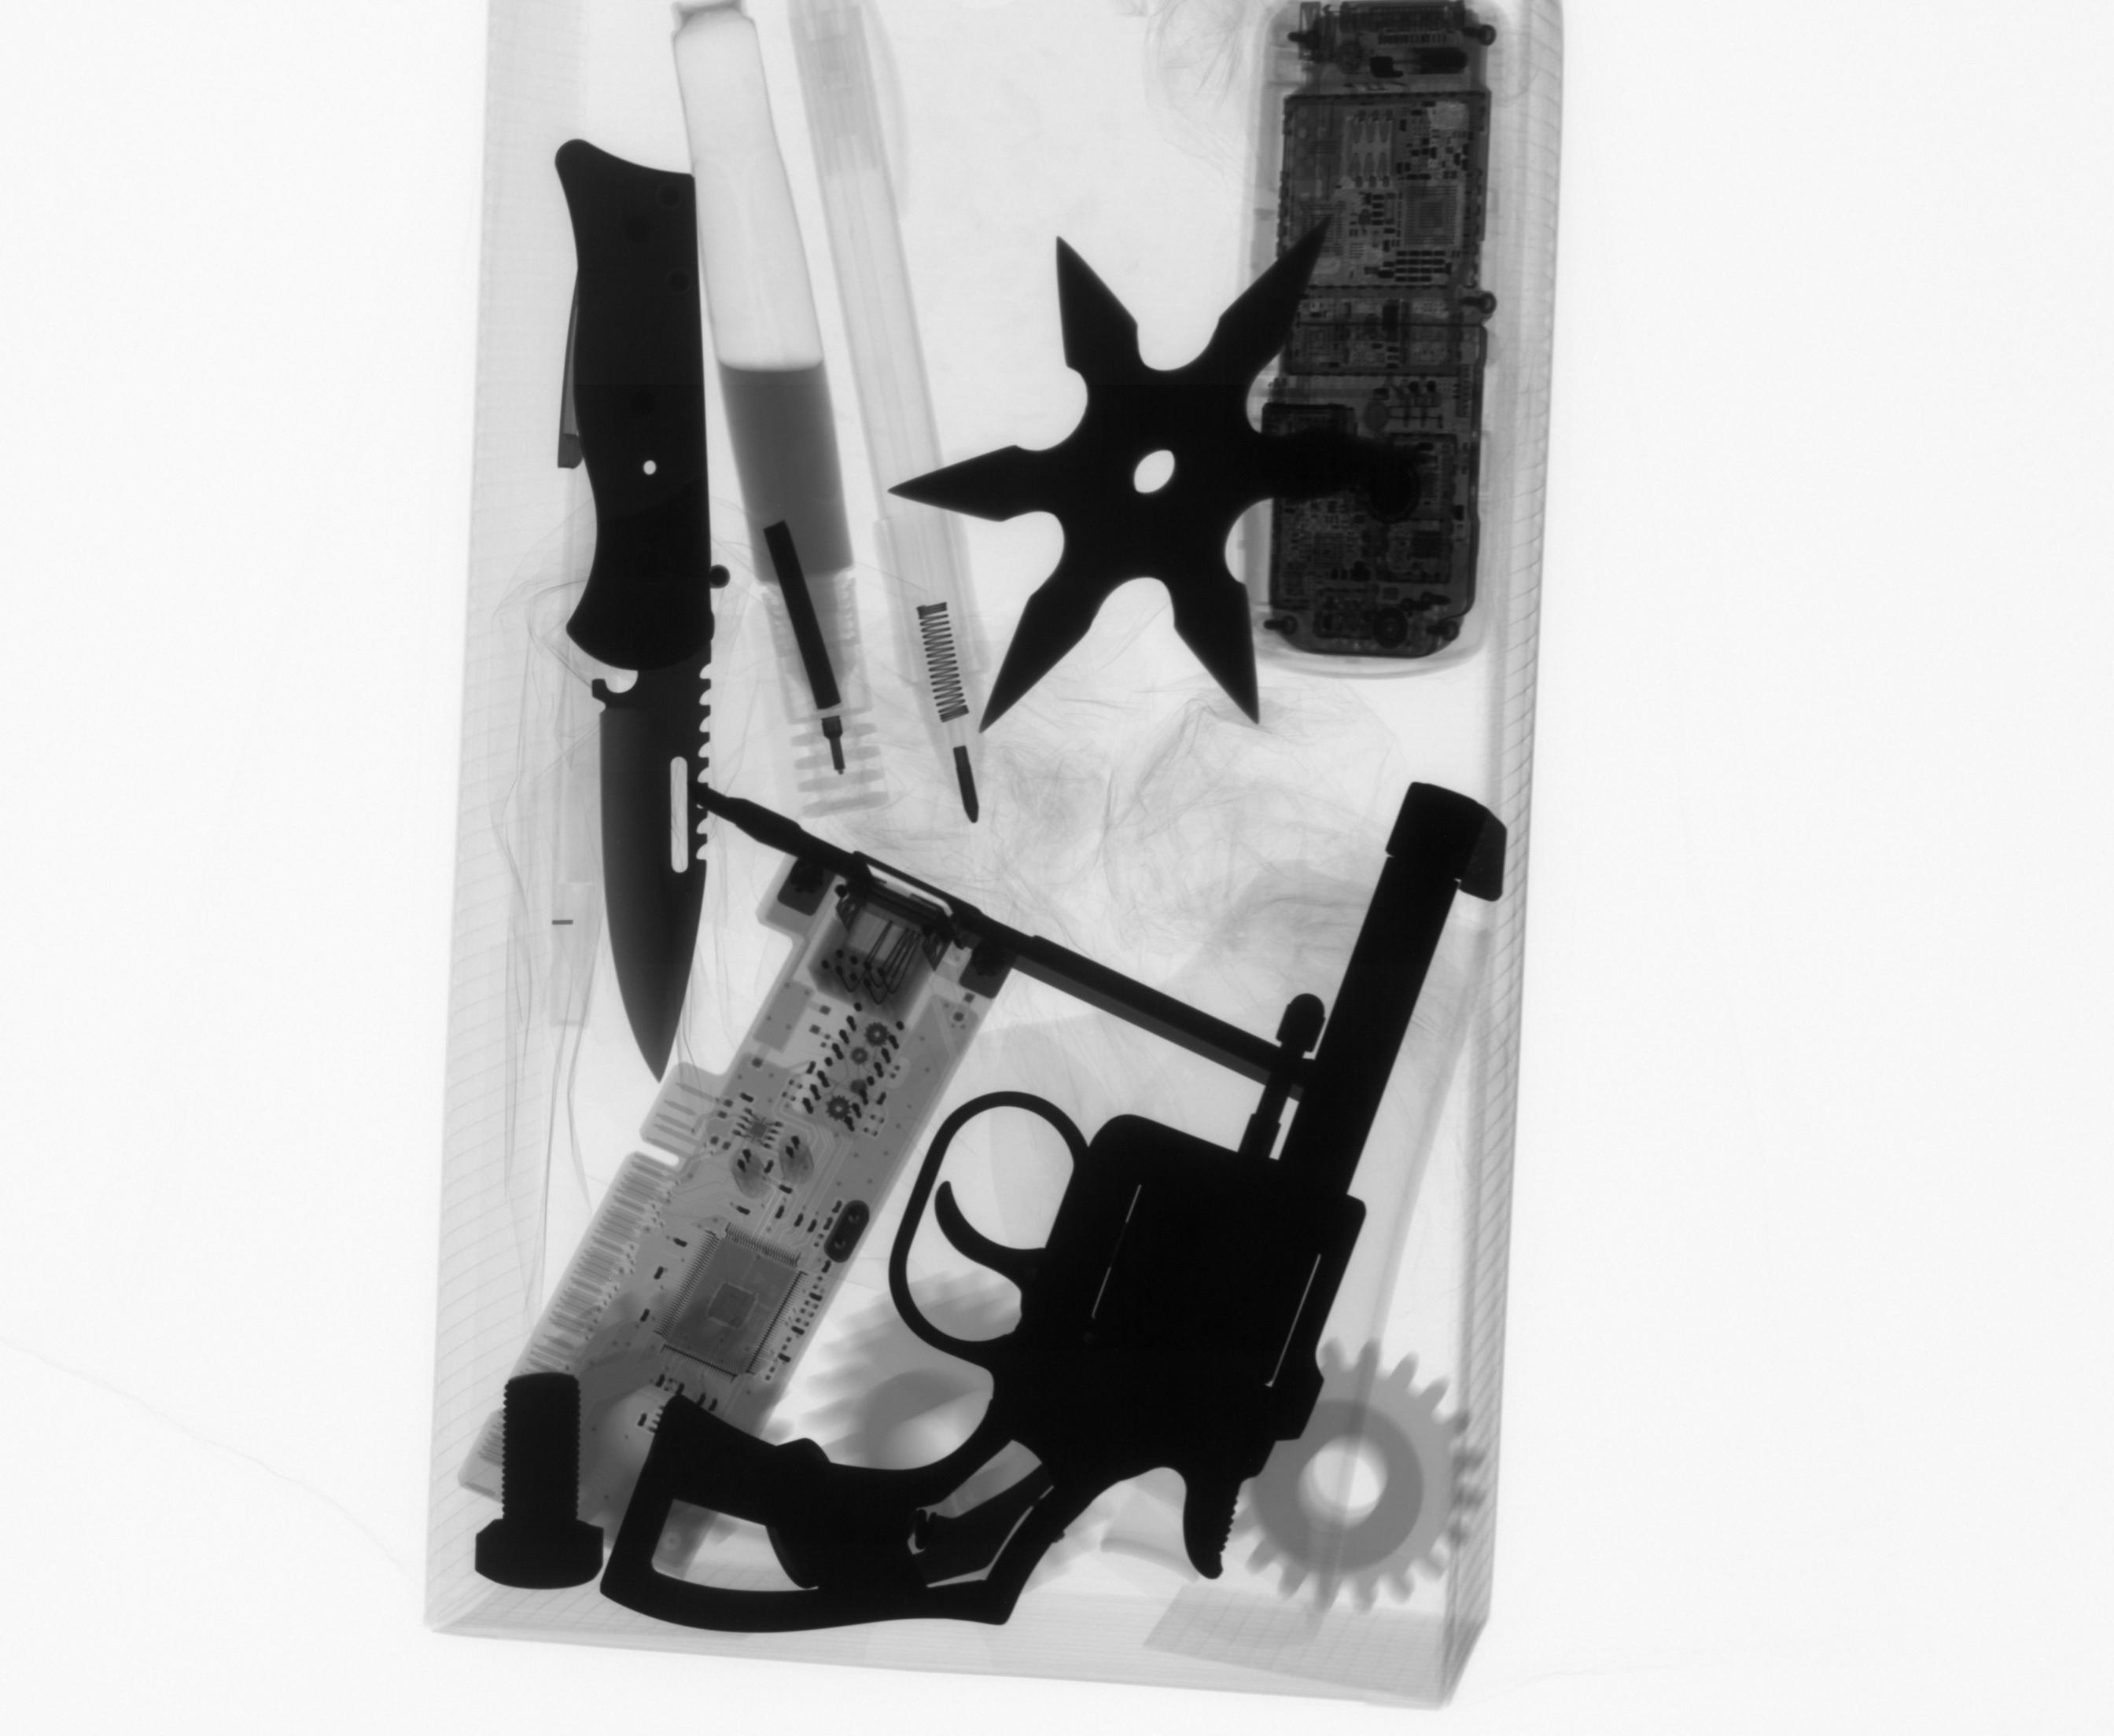Handgun: (586, 772, 1517, 1646)
Knife: (541, 126, 744, 1097)
Shuriken: (880, 228, 1420, 741)
